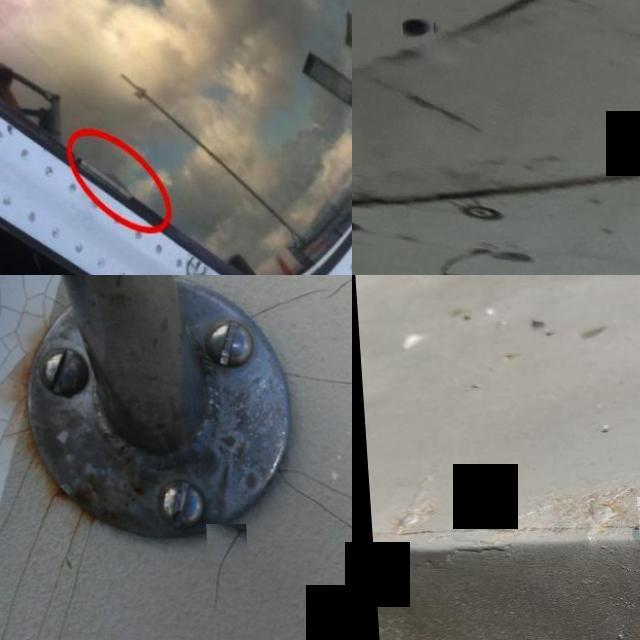Crack: (0, 487, 55, 640), (24, 503, 79, 640), (44, 515, 90, 640), (272, 477, 352, 540), (244, 275, 352, 317), (0, 443, 38, 538), (276, 465, 352, 507), (204, 524, 240, 611), (22, 275, 56, 332), (277, 367, 352, 391), (0, 275, 24, 343), (0, 343, 33, 385), (0, 393, 24, 447)
Missing_Fastener: (398, 16, 430, 40)
